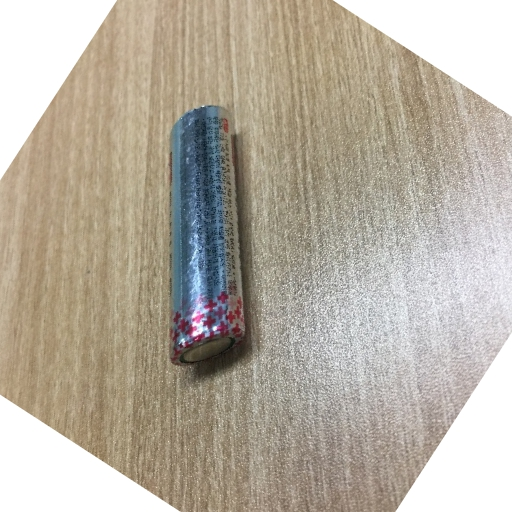Battery_0: (156, 95, 260, 375)
